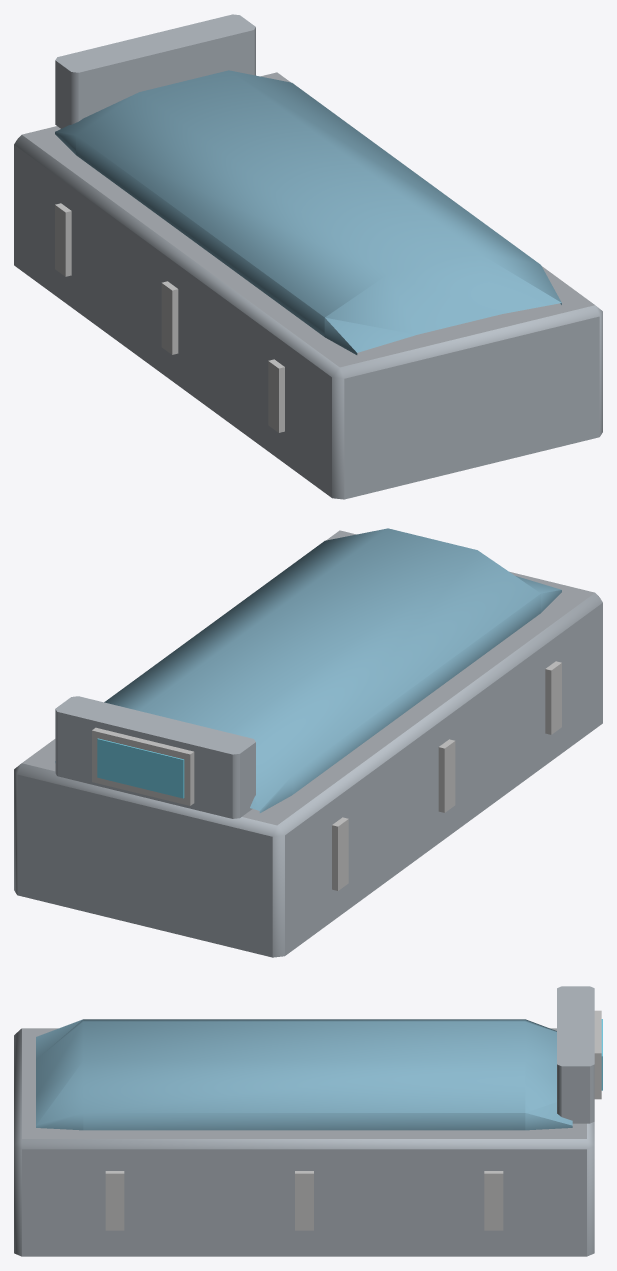
File: ship_cryptosleep_casket.obj
3 views of the same model, one above another, from view 1: azimuth 30°, elevation 25°; view 2: azimuth 150°, elevation 25°; view 3: azimuth 270°, elevation 25° (orthographic). The views are drawn at different scales.
Visible parts, largest first — view 1: casket_base, retained_5, head_control_housing, retained_73, retained_68, retained_78; view 2: casket_base, retained_5, head_control_housing, retained_63, retained_58, retained_73, retained_68, retained_78; view 3: casket_base, retained_5, head_control_housing, retained_68, retained_78, retained_73, retained_58.
Boxes of the visible parts, bbox=[...] form: casket_base: bbox=[14, 72, 602, 499]; retained_5: bbox=[55, 70, 561, 354]; head_control_housing: bbox=[55, 14, 255, 128]; retained_73: bbox=[161, 281, 178, 354]; retained_68: bbox=[268, 359, 284, 432]; retained_78: bbox=[55, 203, 71, 276]; casket_base: bbox=[14, 530, 602, 957]; retained_5: bbox=[55, 528, 561, 812]; head_control_housing: bbox=[55, 696, 255, 818]; retained_63: bbox=[97, 738, 184, 798]; retained_58: bbox=[92, 727, 194, 805]; retained_73: bbox=[438, 739, 455, 812]; retained_68: bbox=[545, 661, 561, 734]; retained_78: bbox=[332, 817, 348, 890]; casket_base: bbox=[14, 1028, 594, 1256]; retained_5: bbox=[36, 1019, 572, 1130]; head_control_housing: bbox=[557, 986, 594, 1123]; retained_68: bbox=[105, 1171, 124, 1230]; retained_78: bbox=[484, 1171, 503, 1230]; retained_73: bbox=[295, 1171, 313, 1230]; retained_58: bbox=[594, 1010, 601, 1099].
Bounding box in the file's own units: 0.92 × 0.6 × 1.87.
